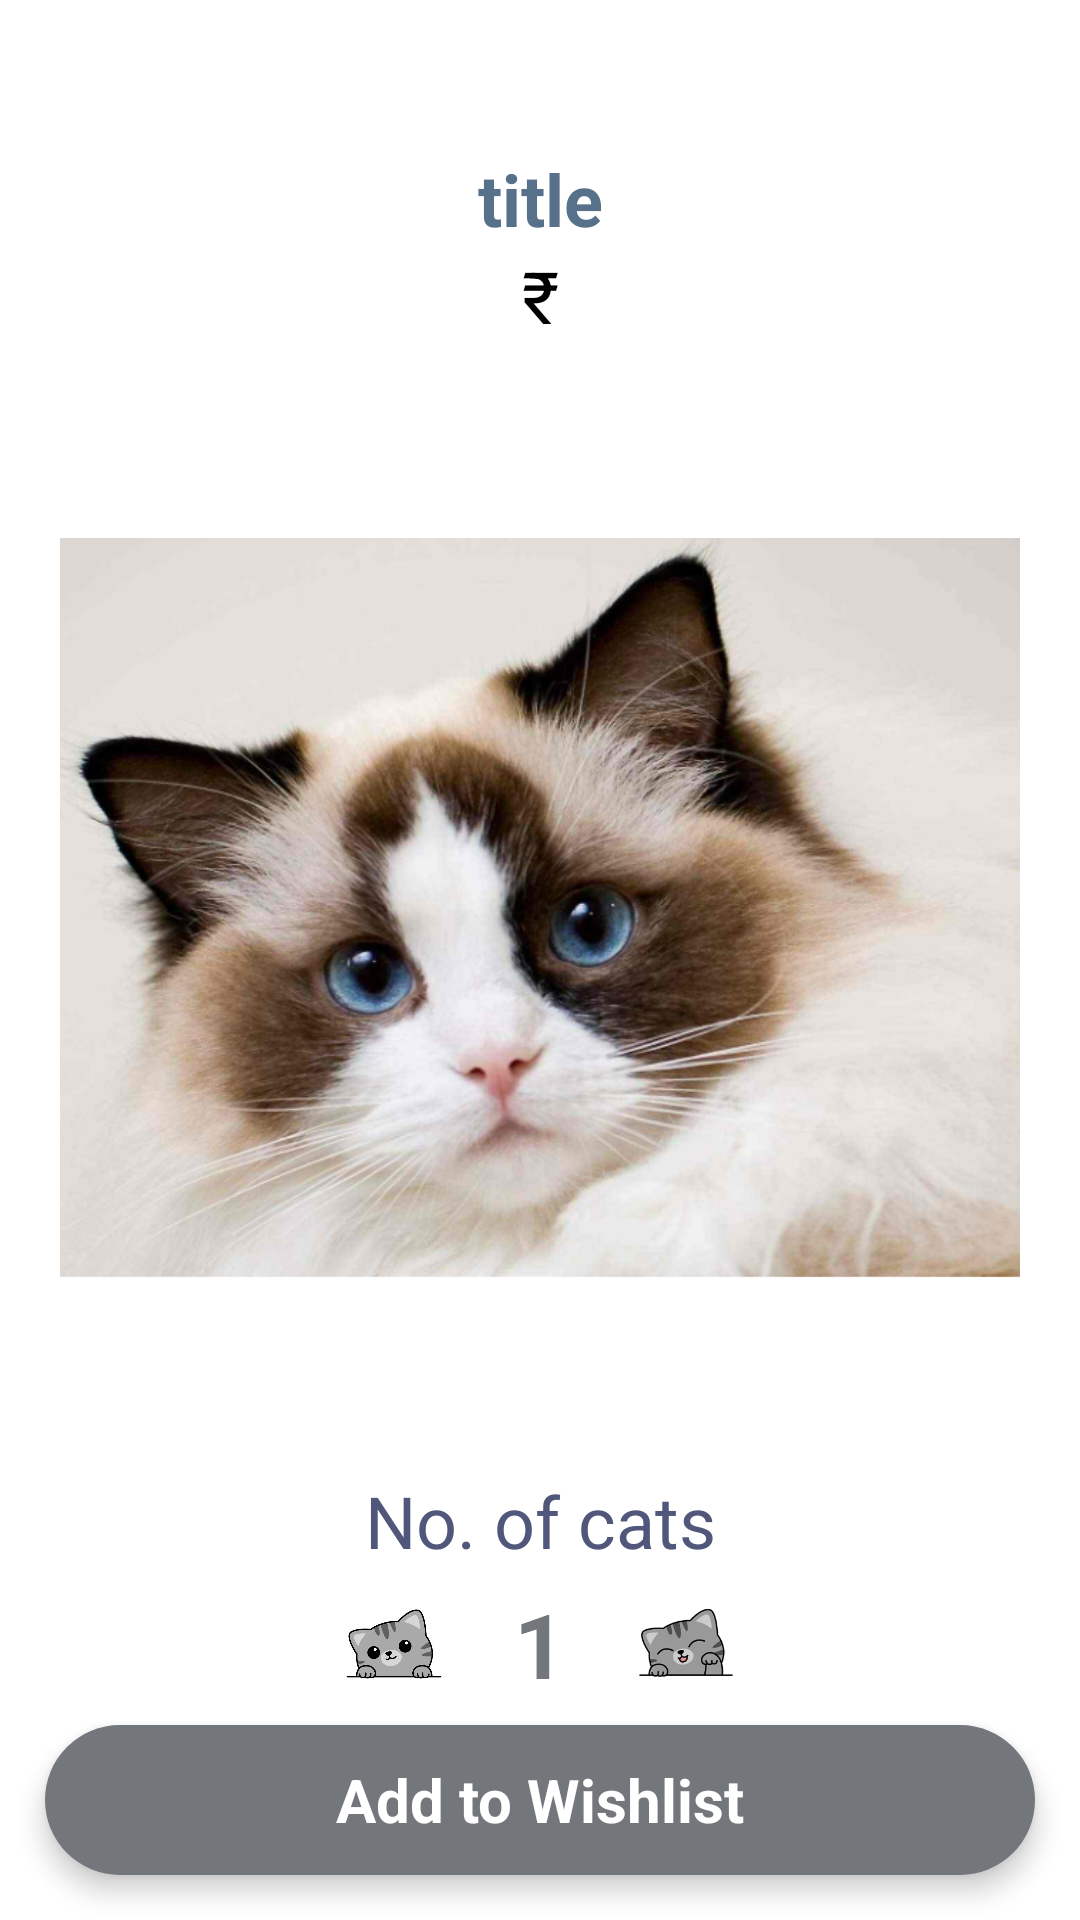

Icons on this 1080×1920 Android screen, each with its box as (x1, y1, x2, y2):
katze: (346, 1609, 442, 1679), (639, 1609, 733, 1677)
